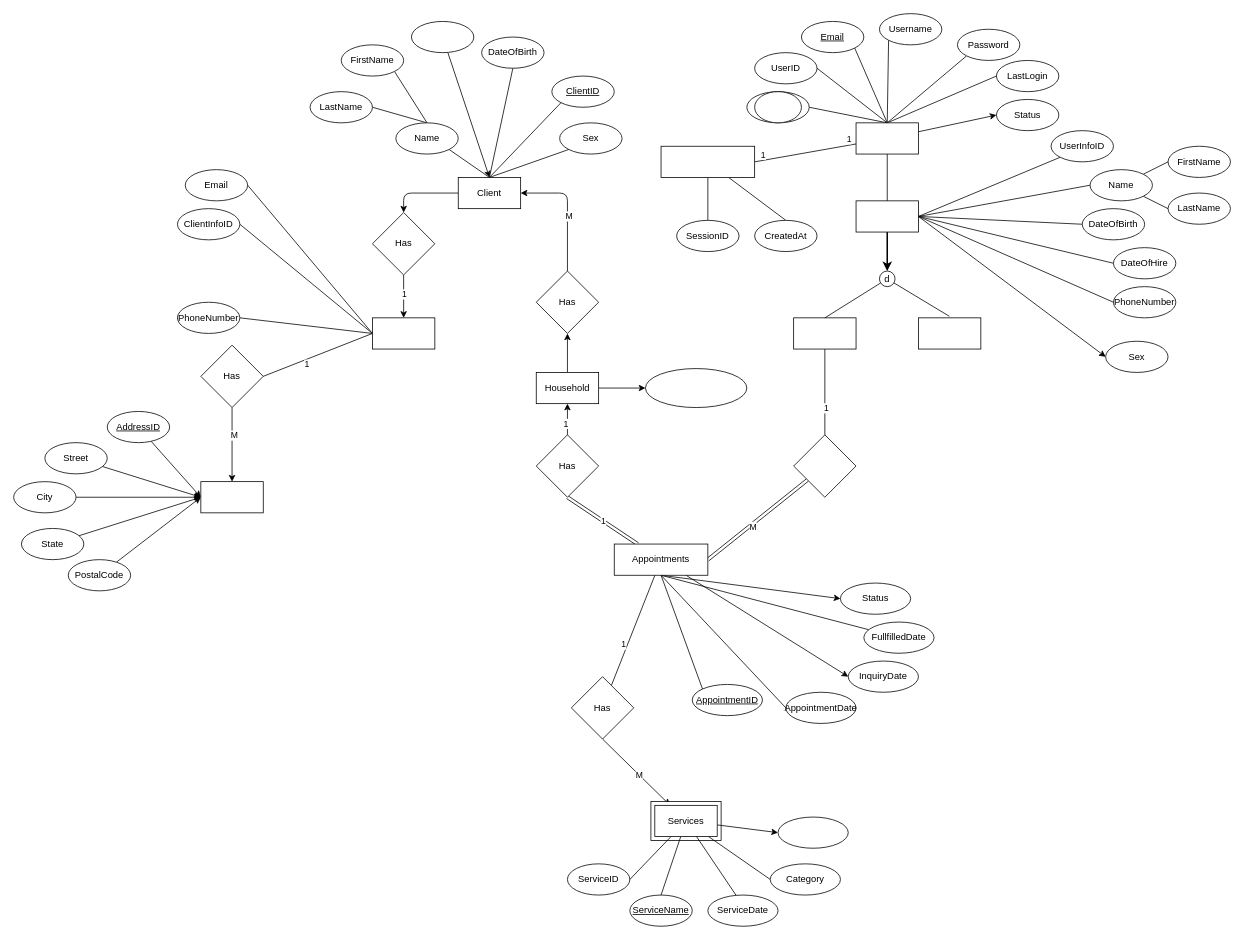
Image size: 1244x940. Some labels were removed from this diagram. Here are the shapes that lost their labels. From the top down, the centre of each, then its label:
At (442,37): "DateAdded".
At (777,107): "UserType".
At (886,138): "User".
At (707,161): "ActiveSessions".
At (886,216): "UserInfo".
At (403,333): "ClientInfo".
At (824,333): "Employee".
At (949,333): "Admin".
At (696,388): "HouseholdID".
At (824,465): "Creates".
At (231,497): "AddressInfo".
At (812,832): "Amount".
